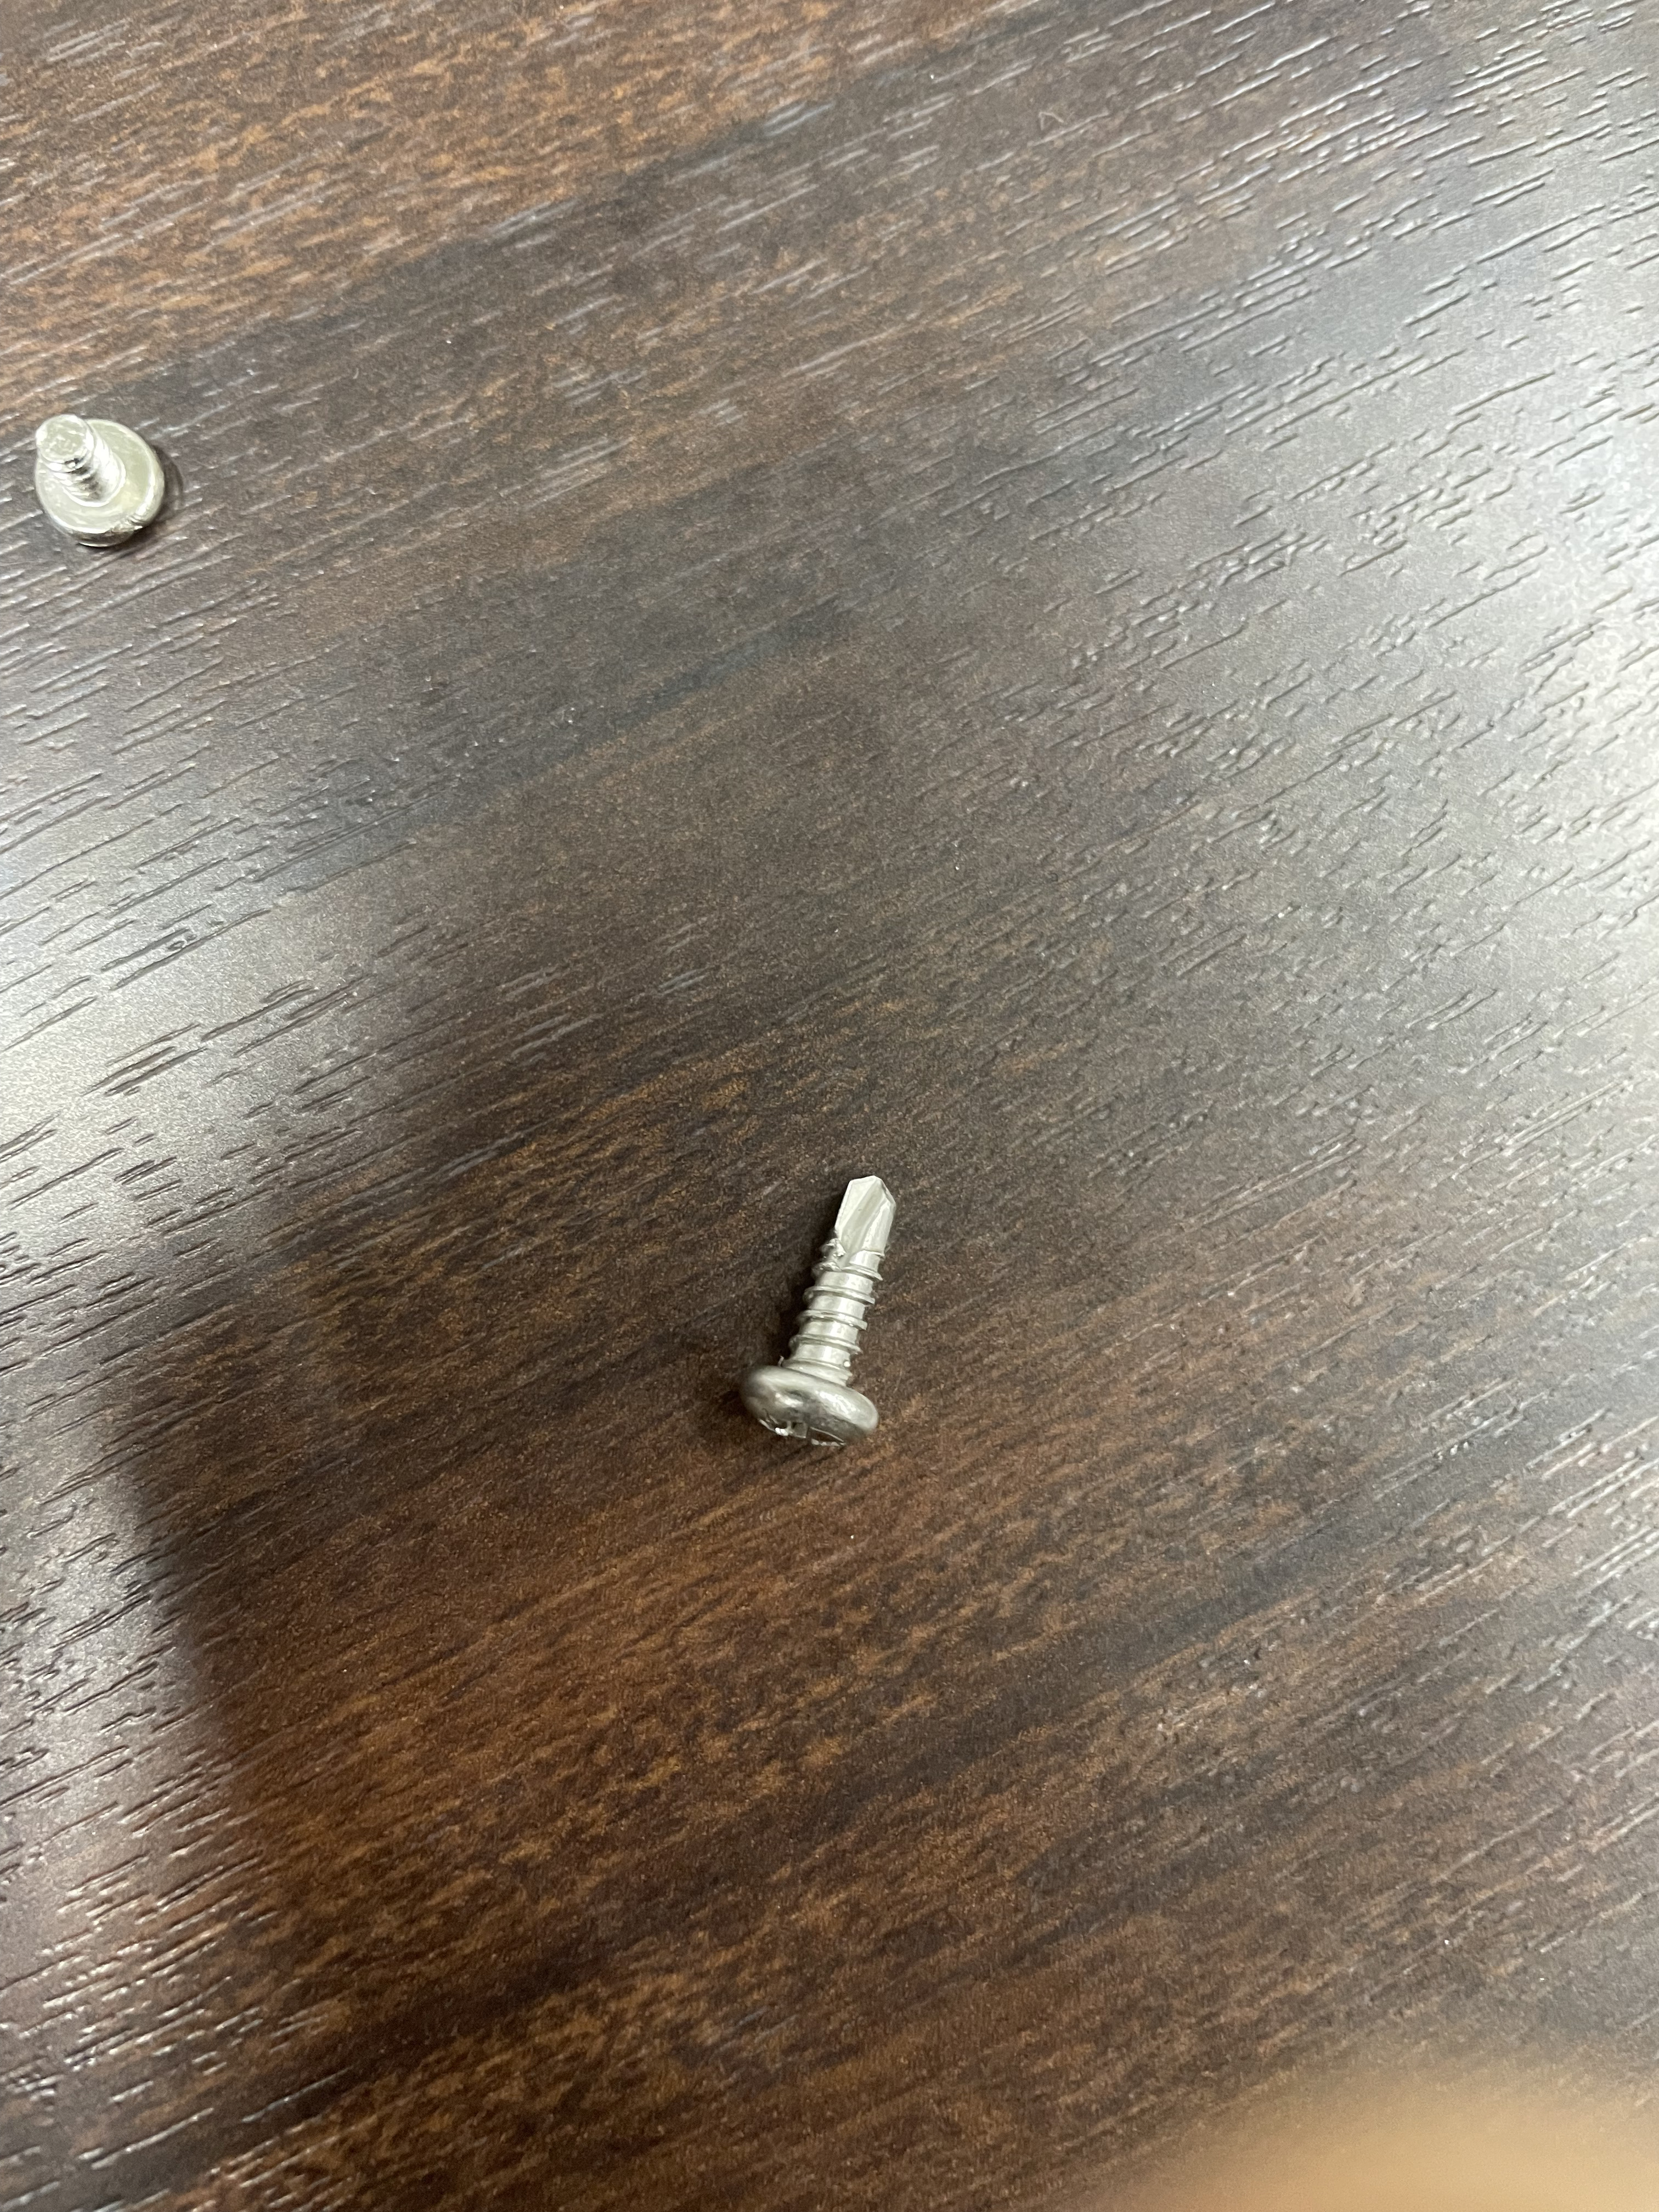screw3: (737, 1165, 895, 1455)
